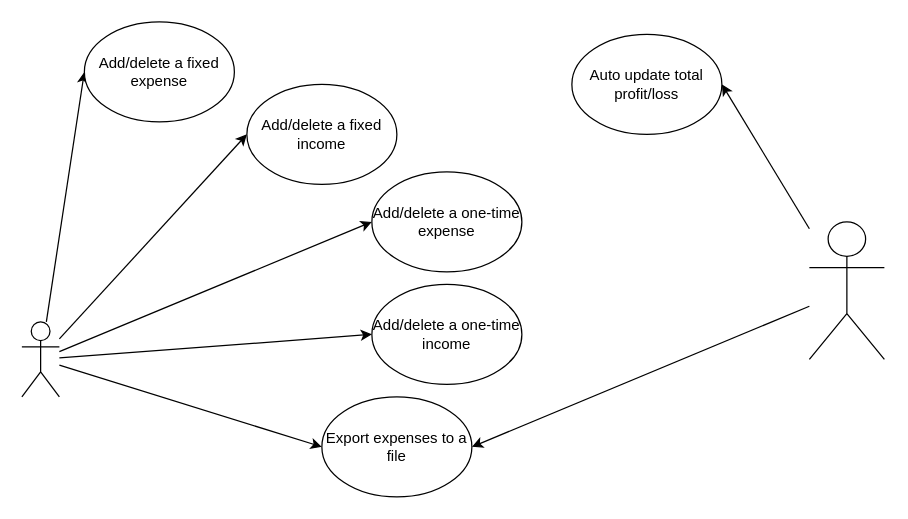
The diagram is 908 pixels wide and 519 high, and some of its shapes have lost their labels. Each missing label, with the box of its shape:
Budget Tool: (808, 221, 884, 359)
User: (21, 321, 59, 397)
